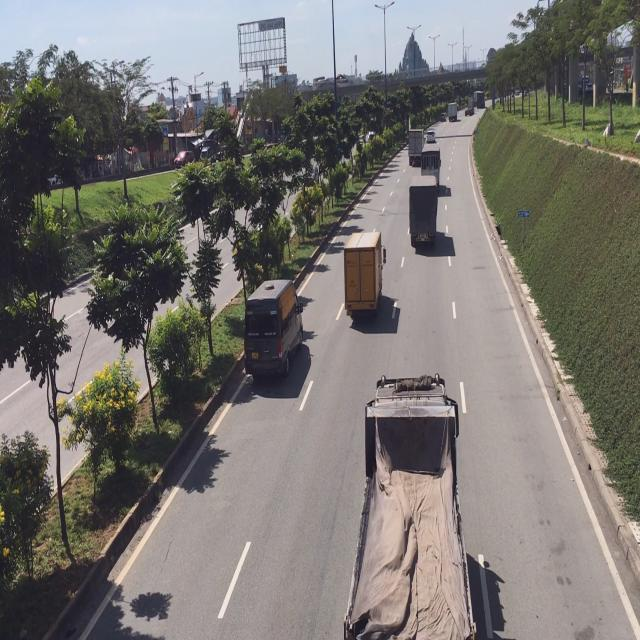bus: (246, 278, 306, 382)
truck: (343, 372, 472, 636), (344, 232, 384, 316), (409, 173, 436, 248), (420, 141, 440, 180), (408, 127, 422, 165)
